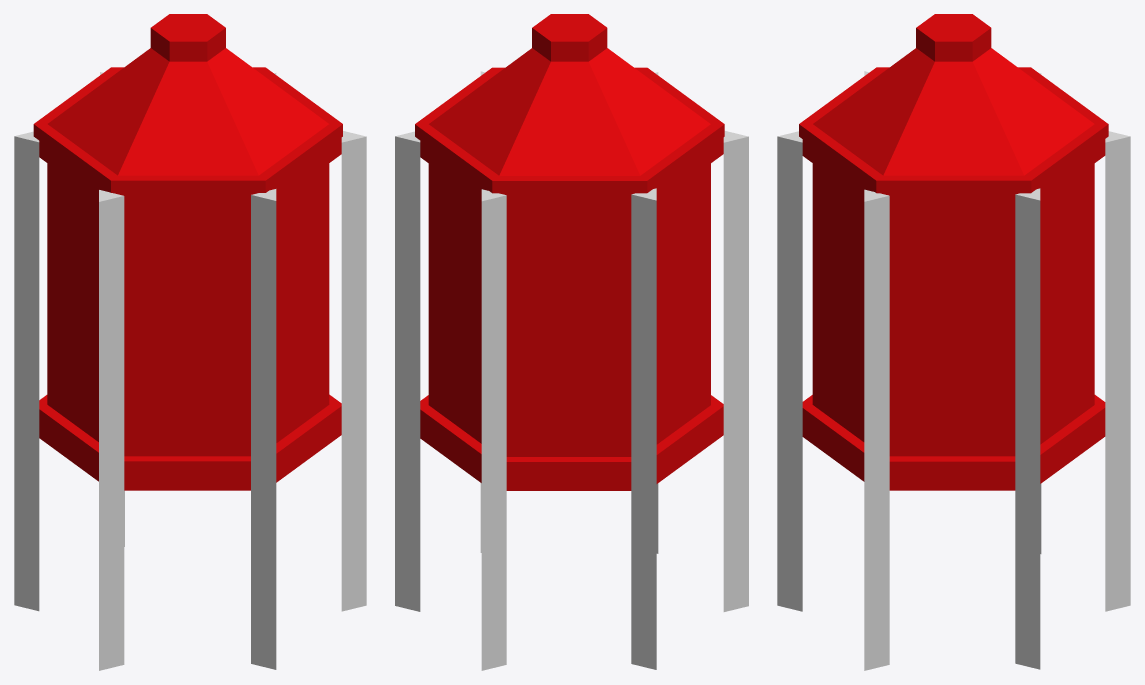
Rendered from Hangar.fbx.
3 renders of one model, left to right at view 1: azimuth 30°, elevation 25°; view 2: azimuth 150°, elevation 25°; view 3: azimuth 270°, elevation 25°, orthographic.
Parts seen in each view (by area): view 1: Cylinder; view 2: Cylinder; view 3: Cylinder.
Boxes of the visible parts, x1,y1,x2,y2 form: Cylinder: (14, 14, 366, 670); Cylinder: (395, 14, 748, 670); Cylinder: (777, 14, 1130, 670).
Bounding box in the file's own units: 219 × 452 × 250.
